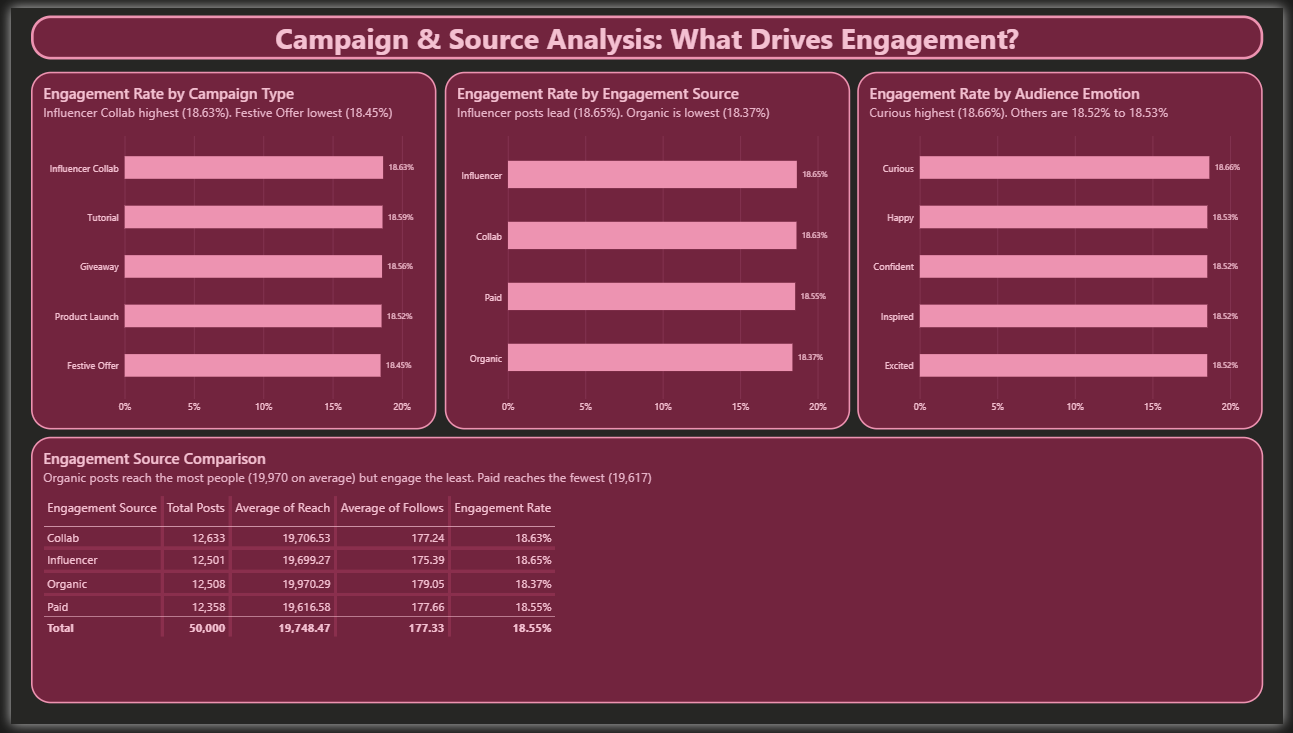

This screenshot's page, from the dashboard's own definition file:
{"tool":"powerbi","page":{"name":"Campaign & Source Analysis","canvas":[1920,1080],"ordinal":7},"visuals":[{"type":"clusteredBarChart","title":"Engagement Rate by Campaign Type","fields":{"Category":["Posts.Campaign Type"],"Y":["Posts.Engagement Rate"]},"box":[30,96,612,540],"z":0},{"type":"clusteredBarChart","title":"Engagement Rate by Engagement Source","fields":{"Category":["Posts.Engagement Source"],"Y":["Posts.Engagement Rate"]},"box":[654,96,612,540],"z":1000},{"type":"clusteredBarChart","title":"Engagement Rate by Audience Emotion","fields":{"Category":["Posts.Audience Emotion"],"Y":["Posts.Engagement Rate"]},"box":[1278,96,612,540],"z":2000},{"type":"textbox","box":[30,12,1860,66],"z":3000},{"type":"tableEx","title":"Engagement Source Comparison","fields":{"Values":["Posts.Engagement Source","Posts.Total Posts","Posts.Reach","Posts.Follows","Posts.Engagement Rate"]},"box":[30,648,1860,402],"z":4000}]}

Visuals, with their boxes in screenshot pixels (x1, y1, x2, y2), scaled from the page's 1920x1080 canvas onto the 1293x733 screenshot:
"Engagement Rate by Campaign Type" clusteredBarChart: left=20, top=65, right=432, bottom=432
"Engagement Rate by Engagement Source" clusteredBarChart: left=440, top=65, right=853, bottom=432
"Engagement Rate by Audience Emotion" clusteredBarChart: left=861, top=65, right=1273, bottom=432
textbox: left=20, top=8, right=1273, bottom=53
"Engagement Source Comparison" tableEx: left=20, top=440, right=1273, bottom=713
